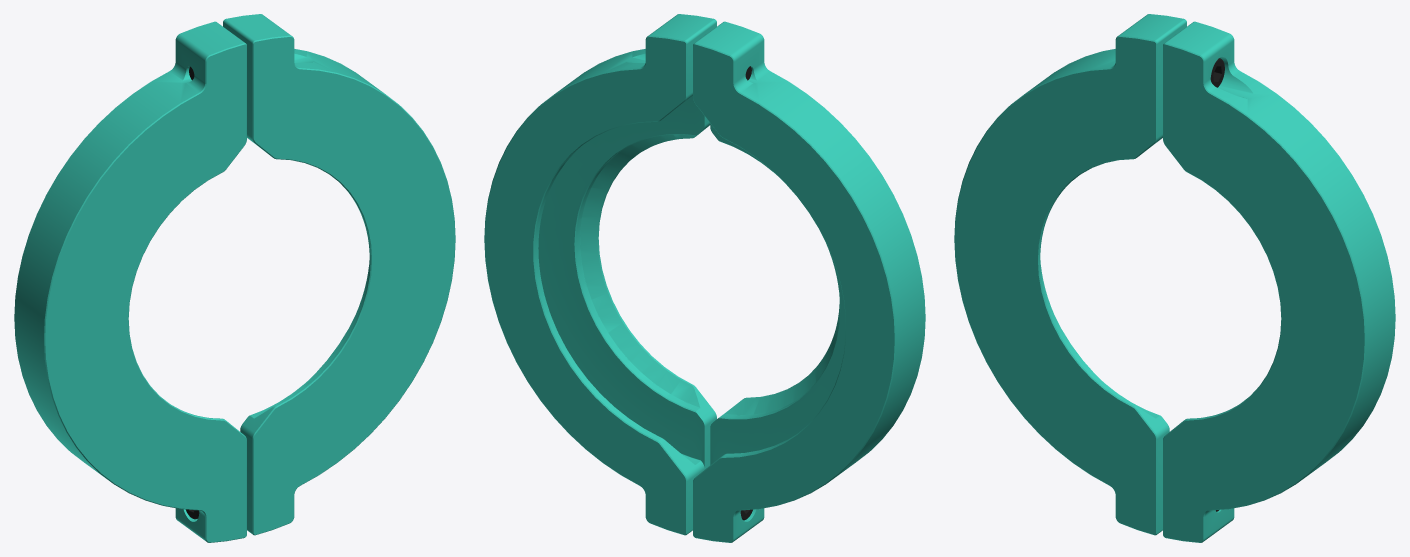
The picture shows the model from 3 angles, left to right: view 1: azimuth 30°, elevation 25°; view 2: azimuth 150°, elevation 25°; view 3: azimuth 330°, elevation 25°; orthographic projection.
Visible parts, largest first — view 1: C148-116.001; view 2: C148-116.001; view 3: C148-116.001.
Boxes of the visible parts, bbox=[...] form: C148-116.001: bbox=[14, 14, 455, 542]; C148-116.001: bbox=[484, 14, 925, 542]; C148-116.001: bbox=[954, 14, 1395, 542].
Size of the model in its own units: 0.148 by 0.17 by 0.019.
